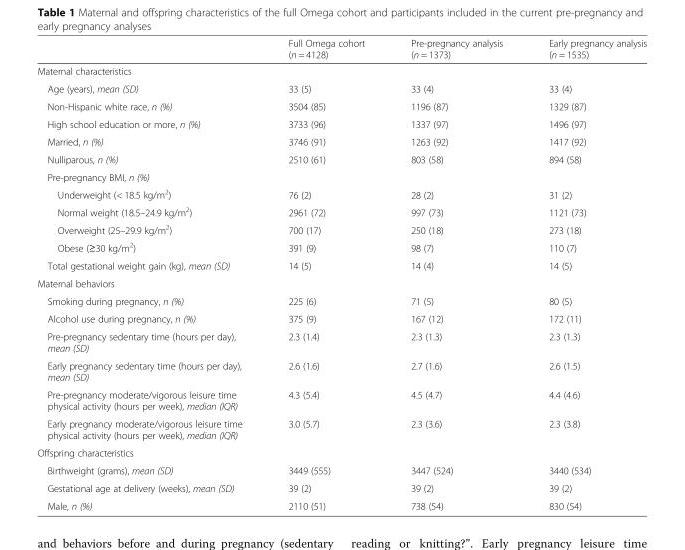table: (36, 37, 646, 511)
table column: (36, 37, 264, 511), (387, 37, 525, 511), (264, 37, 387, 511), (525, 37, 646, 511)
table column header: (36, 37, 646, 62)
table projected row header: (36, 443, 646, 461), (36, 62, 646, 79), (36, 274, 646, 291), (36, 168, 646, 184)
table row: (36, 327, 646, 356), (36, 356, 646, 385), (36, 385, 646, 414), (36, 414, 646, 443), (36, 37, 646, 62), (36, 79, 646, 97), (36, 114, 646, 132), (36, 132, 646, 150), (36, 150, 646, 168), (36, 184, 646, 202), (36, 202, 646, 220), (36, 220, 646, 238), (36, 238, 646, 256), (36, 256, 646, 274), (36, 291, 646, 309), (36, 309, 646, 327), (36, 443, 646, 461), (36, 461, 646, 479), (36, 62, 646, 79), (36, 97, 646, 114), (36, 274, 646, 291), (36, 479, 646, 496), (36, 168, 646, 184), (36, 496, 646, 511)
